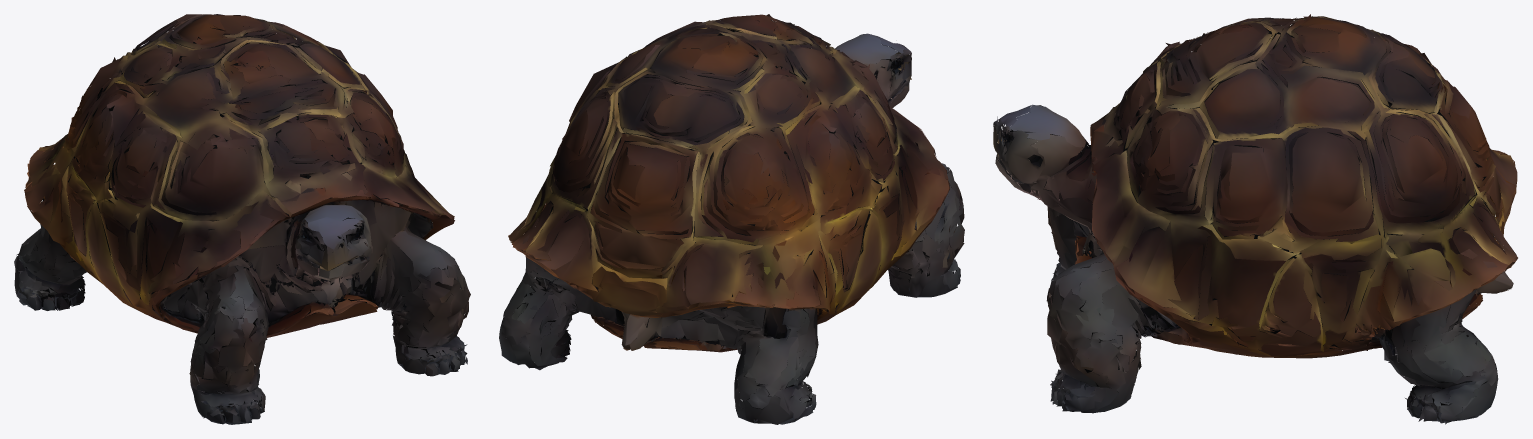
Rendered from giant_tortoise.glb.
The picture shows the model from 3 angles, left to right: view 1: azimuth 30°, elevation 25°; view 2: azimuth 150°, elevation 25°; view 3: azimuth 270°, elevation 25°; orthographic projection. The views are drawn at different scales.
Visible parts, largest first — view 1: giant_tortoise_body; view 2: giant_tortoise_body; view 3: giant_tortoise_body.
Boxes of the visible parts, left/top/right/bottom form: giant_tortoise_body: left=14, top=14, right=470, bottom=424; giant_tortoise_body: left=499, top=14, right=964, bottom=424; giant_tortoise_body: left=993, top=14, right=1517, bottom=424.
Size of the model in its own units: 6.59 by 6 by 9.02.
Materials: 1 (1 with a texture image).
